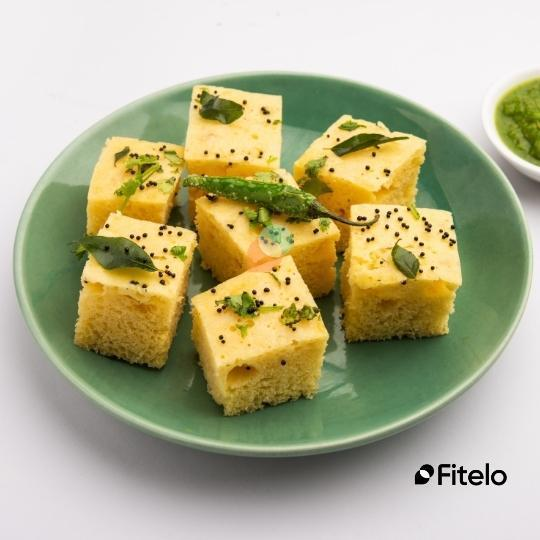dhokla: (70, 85, 477, 413)
